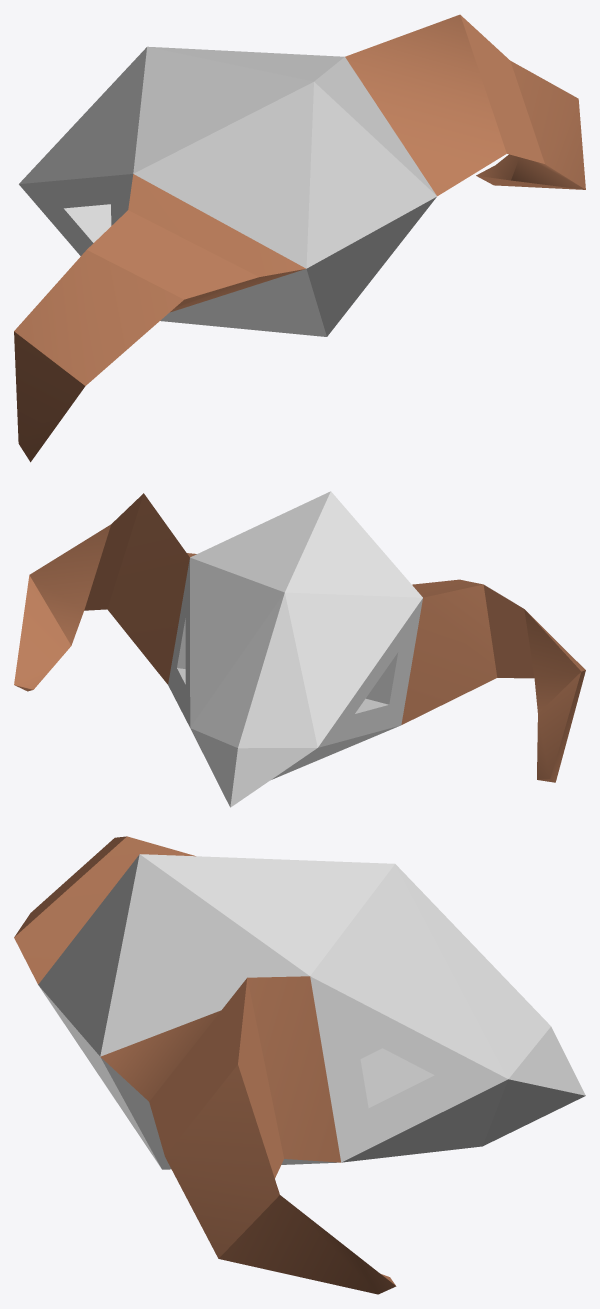
Rendered from Skull.obj.
The picture shows the model from 3 angles, top to bottom: view 1: azimuth 30°, elevation 25°; view 2: azimuth 150°, elevation 25°; view 3: azimuth 270°, elevation 25°; orthographic projection. The views are drawn at different scales.
Visible parts, largest first — view 1: Icosphere_Icosphere.001; view 2: Icosphere_Icosphere.001; view 3: Icosphere_Icosphere.001.
Boxes of the visible parts, left/top/right/bottom form: Icosphere_Icosphere.001: left=14, top=14, right=585, bottom=462; Icosphere_Icosphere.001: left=14, top=491, right=585, bottom=807; Icosphere_Icosphere.001: left=14, top=836, right=585, bottom=1294.
Bounding box in the file's own units: 2 × 0.9216 × 1.37.
1 material, 1 textured.
